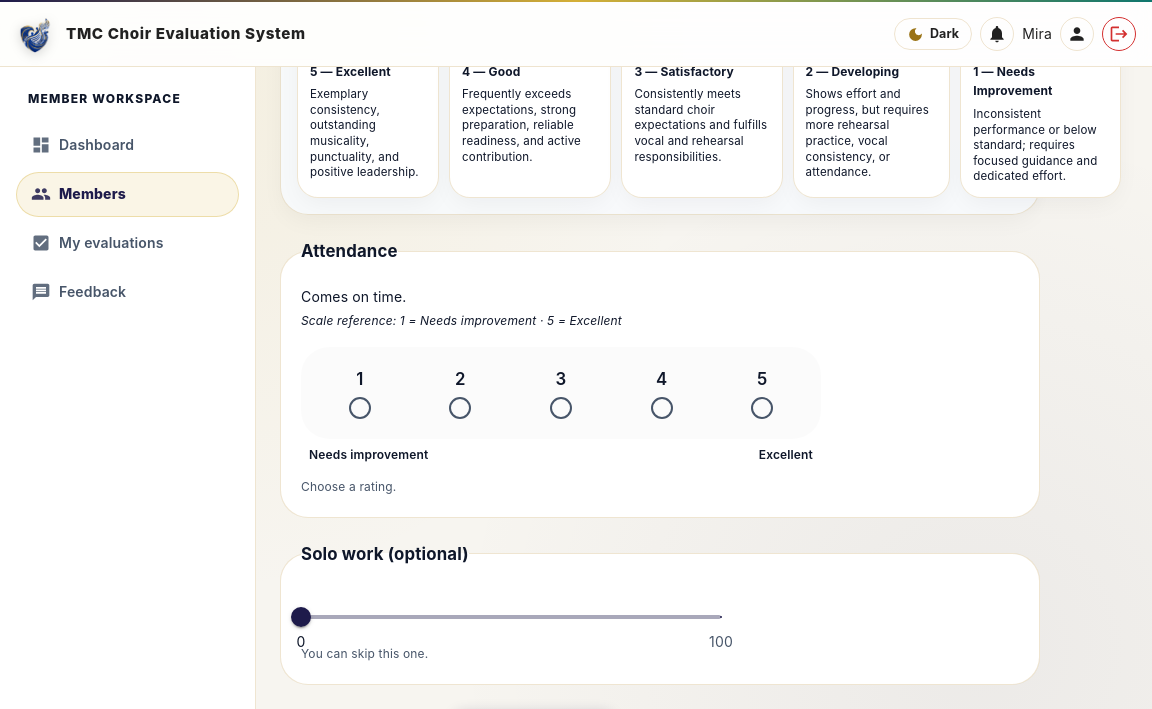
Scenario: EvaluateMemberPage › warns, without blocking, when the comment is signed with the writer's own name
(page scrolled)
Click the button "4": (662, 393) [615,359,708,427]
(page scrolled)
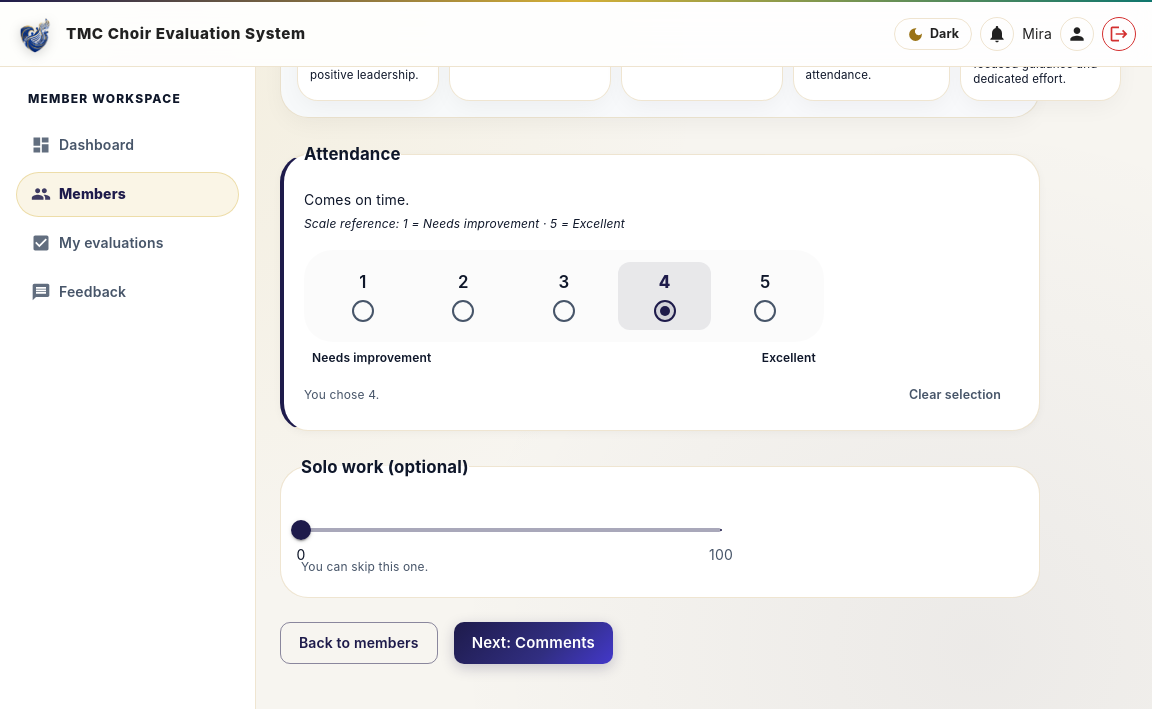
Click the button "Next: Comments": (533, 643) [454,622,613,664]
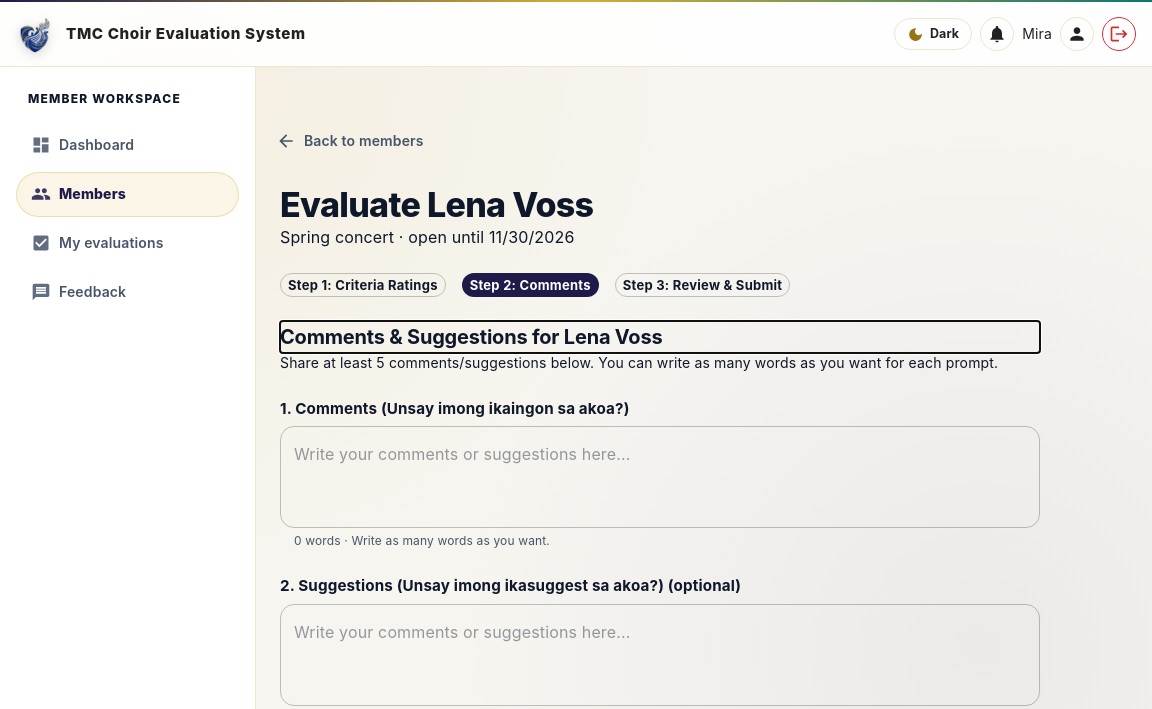
In the text box labelled "1. Comments (Unsay imong ikaingon sa akoa?)": (660, 477) [294,443,1026,512], type "Lovely tone. From Mira"
(page scrolled)
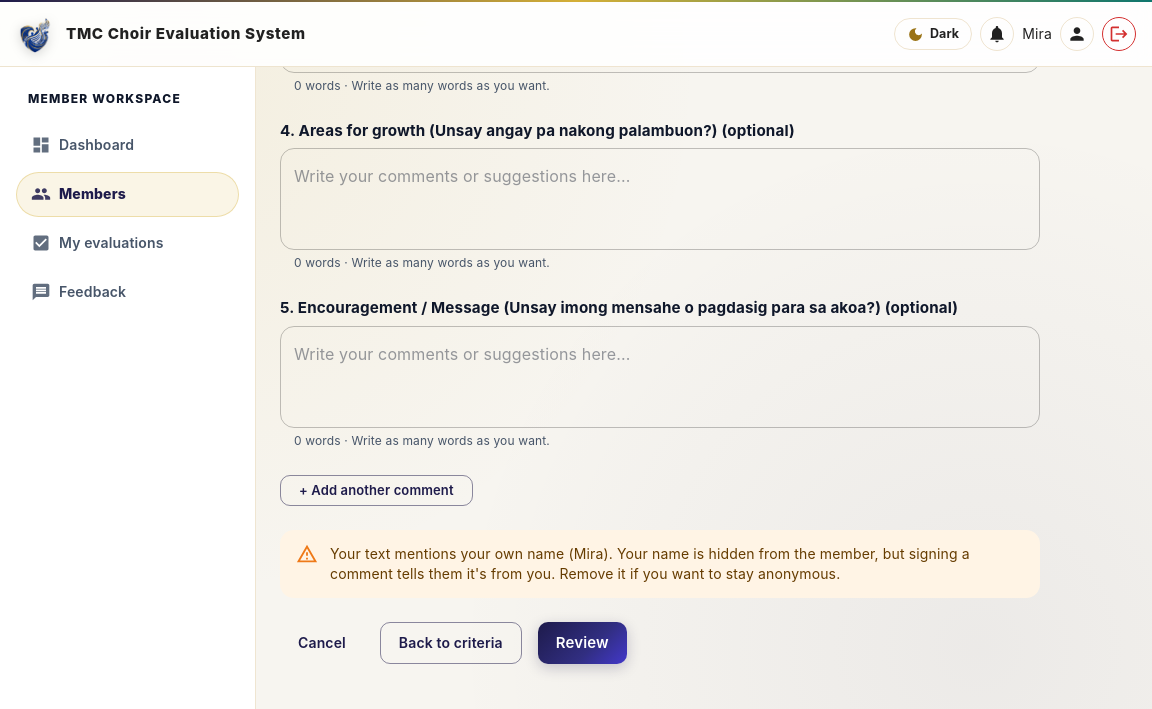
Check: the text "mentions your own name (Mira)" is shown, box [330,536,1024,592]
Click the button "Review": (582, 643) [538,622,627,664]
(page scrolled)
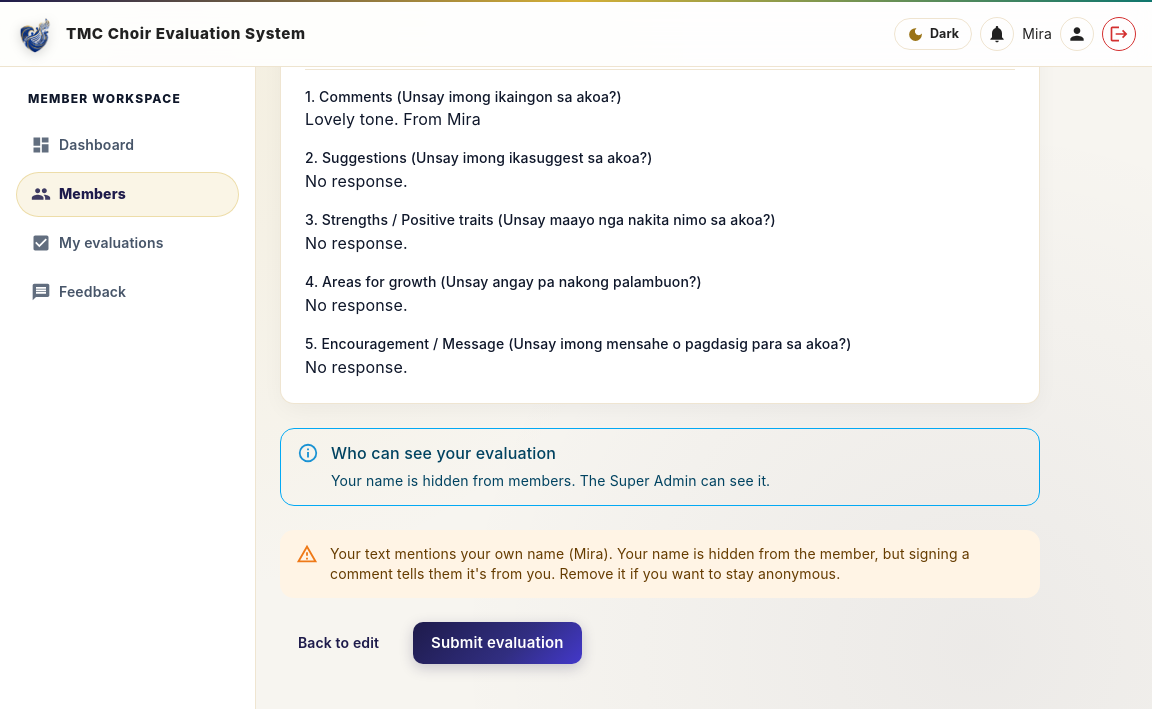
Check: the text "mentions your own name" is shown, box [330,545,574,562]
Check: the button "Submit evaluation" is enabled, box [413,622,582,664]
